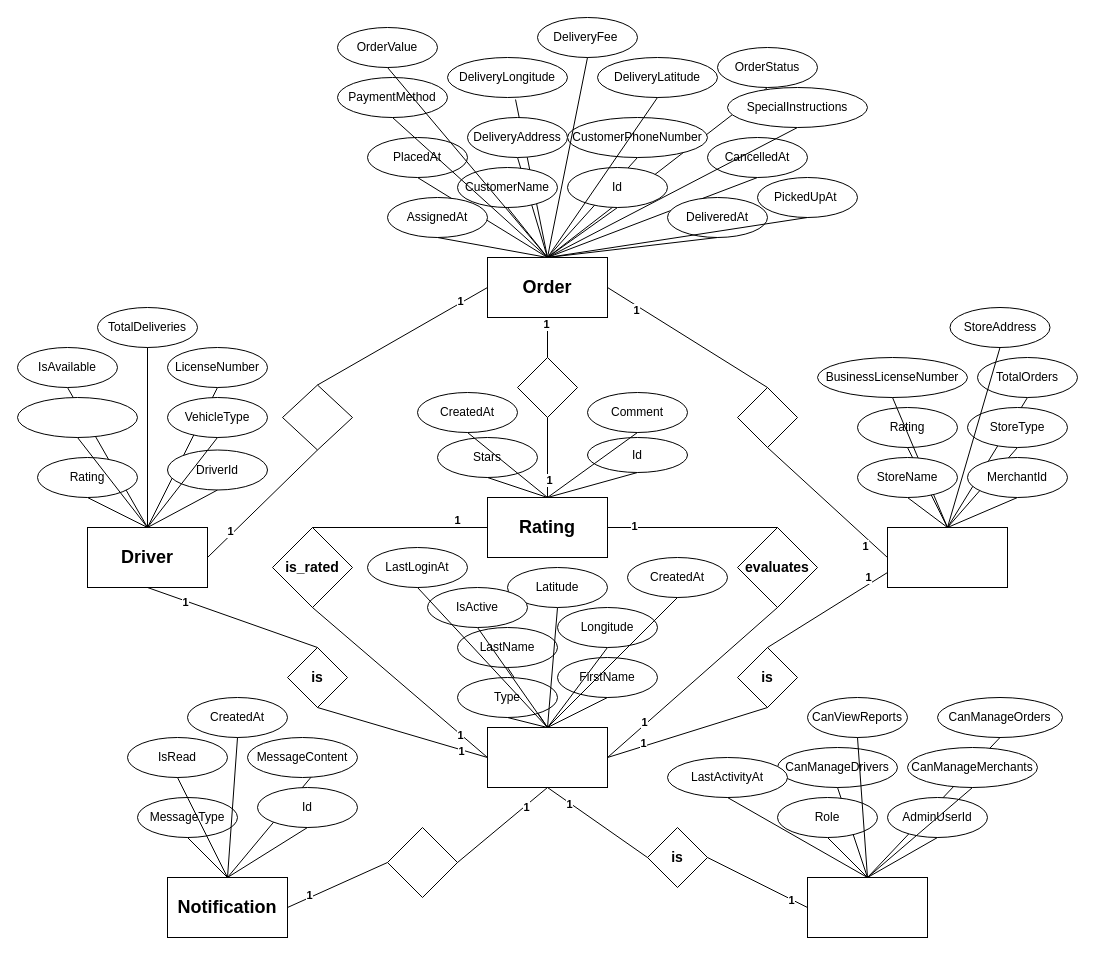
Image size: 1095x955. Some labels were removed from this diagram. Each missing label, with the box of its shape:
AdminUser: (806, 876, 928, 938)
Delivers: (282, 384, 352, 450)
has: (516, 356, 578, 418)
Merchant: (886, 526, 1008, 588)
places: (736, 386, 798, 448)
Receives: (386, 826, 458, 898)
User: (486, 726, 608, 788)
VehiclePlateNumber: (16, 396, 138, 438)
